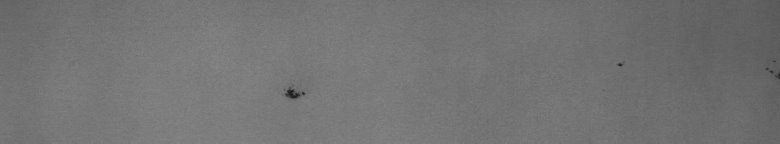fi: (280, 80, 308, 108)
